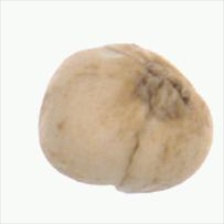L4: (38, 43, 214, 194)
